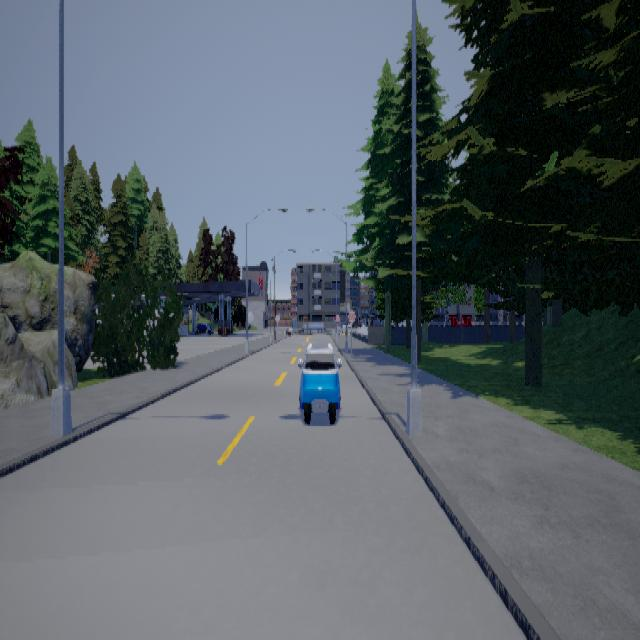traffic_sign: (347, 308, 355, 322)
vehicle: (297, 342, 342, 423)
